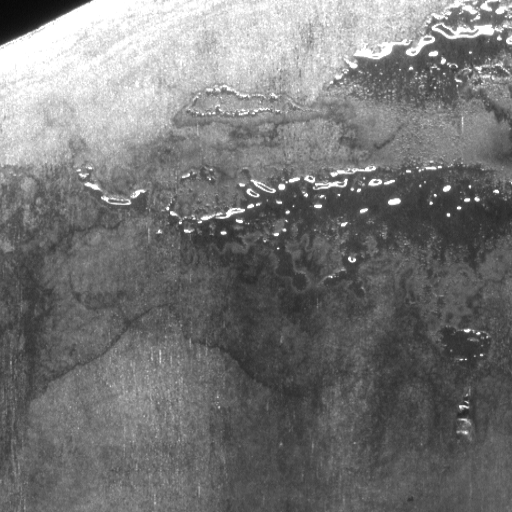qiaopi: (174, 159, 512, 281)
